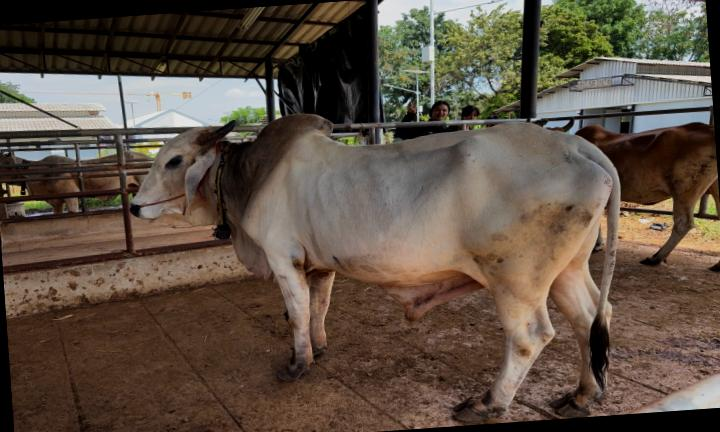Brahman: (132, 114, 620, 420)
